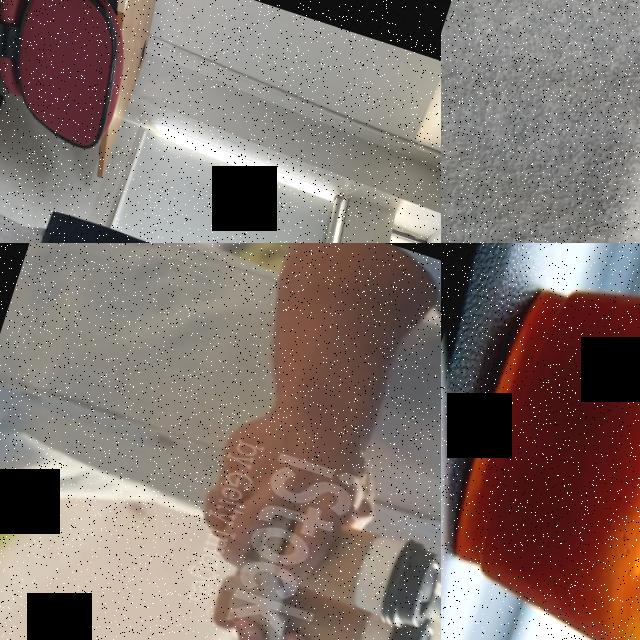cup: (441, 243, 640, 640), (293, 509, 441, 637), (276, 578, 439, 640)
